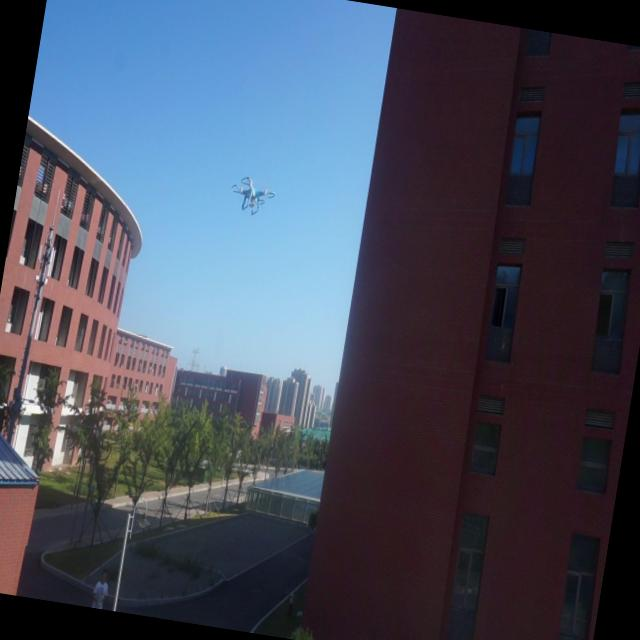drone: (224, 170, 278, 222)
